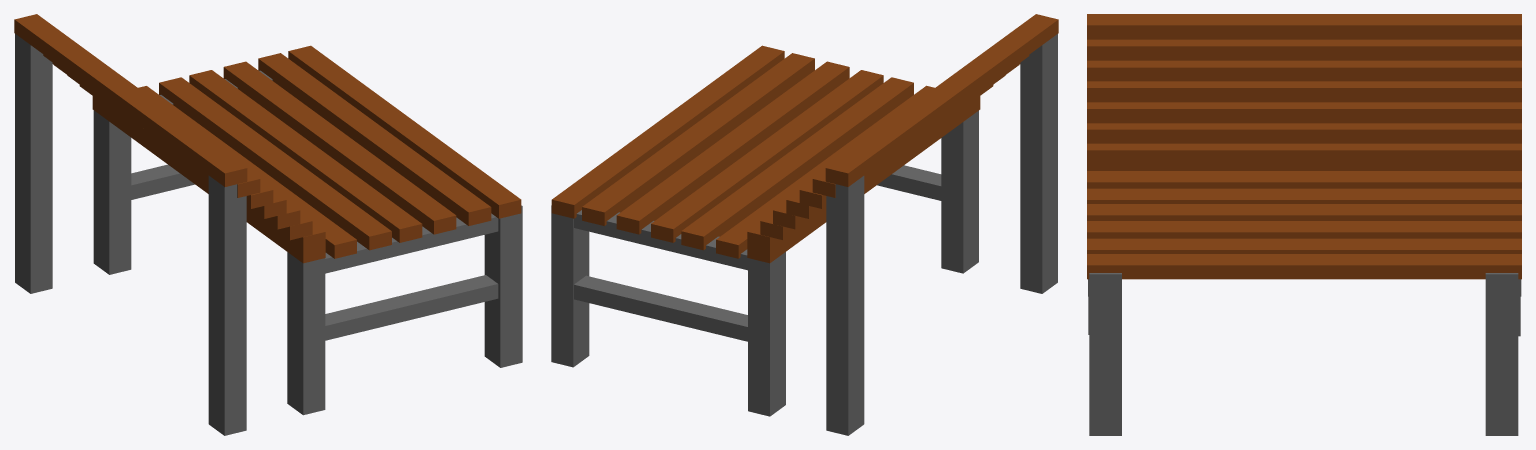
File: Blender_bench.glb
3 renders of one model, left to right at view 1: azimuth 30°, elevation 25°; view 2: azimuth 150°, elevation 25°; view 3: azimuth 270°, elevation 25°, orthographic. The views are drawn at different scales.
Visible parts, largest first — view 1: 立方体.009, 立方体.008, Cube.008, Cube.005, Cube.002, Cube.003, Cube.004, Cube.001, 立方体, 立方体.003, 立方体.001, 立方体.004 (+10 smaller); view 2: 立方体.008, 立方体.009, Cube.008, Cube.005, Cube.002, Cube.003, Cube.004, Cube.001, 立方体.003, 立方体, 立方体.002, 立方体.005 (+10 smaller); view 3: Cube.008, Cube.001, Cube.007, Cube.011, Cube.013, Cube.015, Cube.017, Cube.009, Cube.003, Cube.006, Cube.004, Cube.002 (+4 smaller).
Boxes of the visible parts, <box> form: 立方体.009: <box>208,175,246,435</box>; 立方体.008: <box>15,34,52,293</box>; Cube.008: <box>14,14,247,186</box>; Cube.005: <box>159,77,391,250</box>; Cube.002: <box>258,53,491,225</box>; Cube.003: <box>223,61,456,234</box>; Cube.004: <box>189,70,422,242</box>; Cube.001: <box>288,45,521,218</box>; 立方体: <box>287,252,325,415</box>; 立方体.003: <box>93,110,131,274</box>; 立方体.001: <box>484,205,522,367</box>; 立方体.004: <box>325,275,498,340</box>; 立方体.008: <box>826,176,864,435</box>; 立方体.009: <box>1020,34,1057,293</box>; Cube.008: <box>825,14,1058,186</box>; Cube.005: <box>681,77,913,250</box>; Cube.002: <box>582,53,814,225</box>; Cube.003: <box>616,61,849,234</box>; Cube.004: <box>651,70,883,242</box>; Cube.001: <box>551,45,784,218</box>; 立方体.003: <box>748,252,785,416</box>; 立方体: <box>941,110,978,273</box>; 立方体.002: <box>551,205,589,367</box>; 立方体.005: <box>574,275,747,341</box>; Cube.008: <box>1087,14,1521,39</box>; Cube.001: <box>1087,254,1521,279</box>; Cube.007: <box>1087,143,1521,164</box>; Cube.011: <box>1087,102,1521,123</box>; Cube.013: <box>1087,81,1521,102</box>; Cube.015: <box>1087,60,1521,81</box>; Cube.017: <box>1087,39,1521,60</box>; Cube.009: <box>1087,123,1521,143</box>; Cube.003: <box>1087,221,1521,238</box>; Cube.006: <box>1087,171,1521,188</box>; Cube.004: <box>1087,204,1521,220</box>; Cube.002: <box>1087,238,1521,253</box>.
Bounding box in the file's own units: 9.01 × 7.57 × 10.99.
